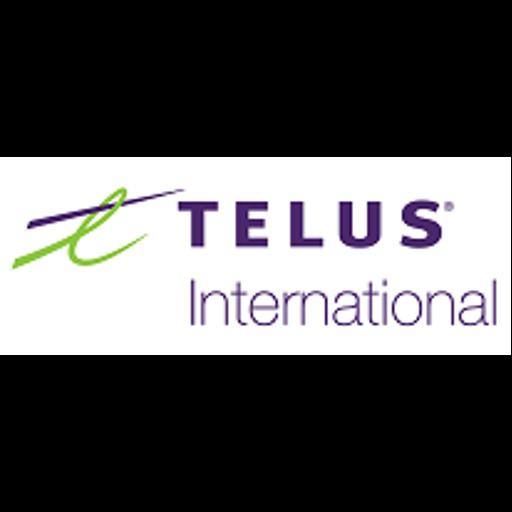Telus: (0, 157, 511, 355)
